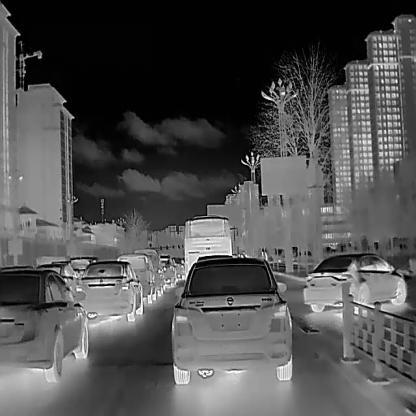car: (170, 255, 295, 382), (6, 266, 91, 381), (302, 249, 408, 313), (74, 258, 145, 321), (182, 213, 233, 286), (116, 252, 155, 303)
